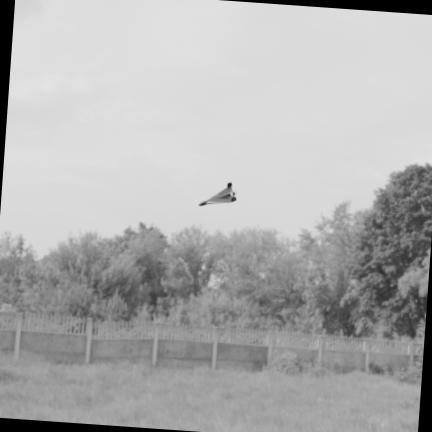Shahed: (199, 182, 236, 205)
